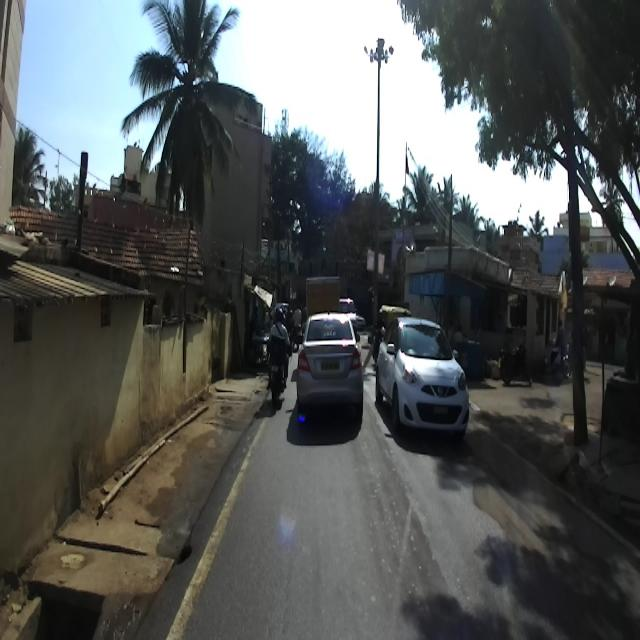Car_Maruti-Suzuki: (296, 311, 364, 422)
Car_Nissan: (375, 316, 469, 438)
motorcycle_Honda: (267, 334, 290, 409)
